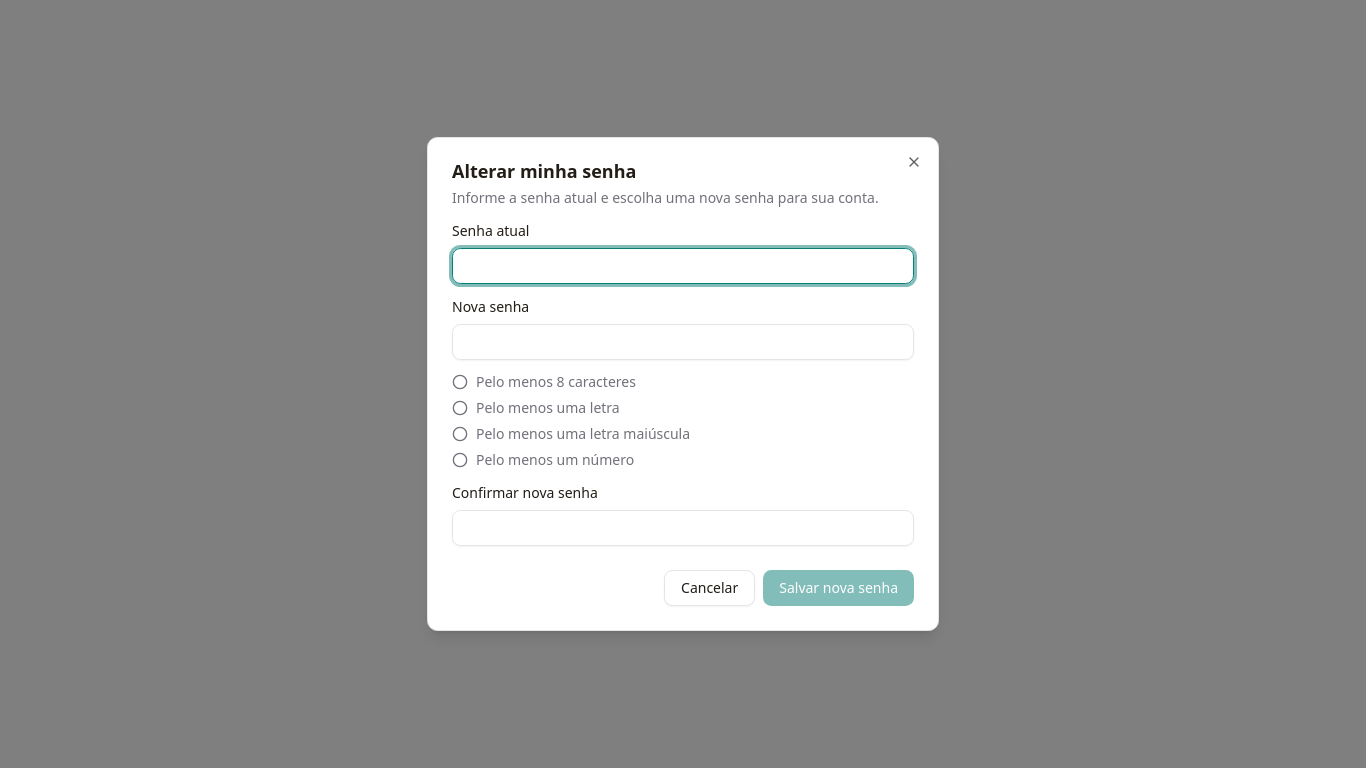
formulário de alteração de senha › limpa os campos ao cancelar
Type "NovaSenha123" into the password field labelled "Nova senha". click: (683, 342)
box: [452, 324, 914, 360]
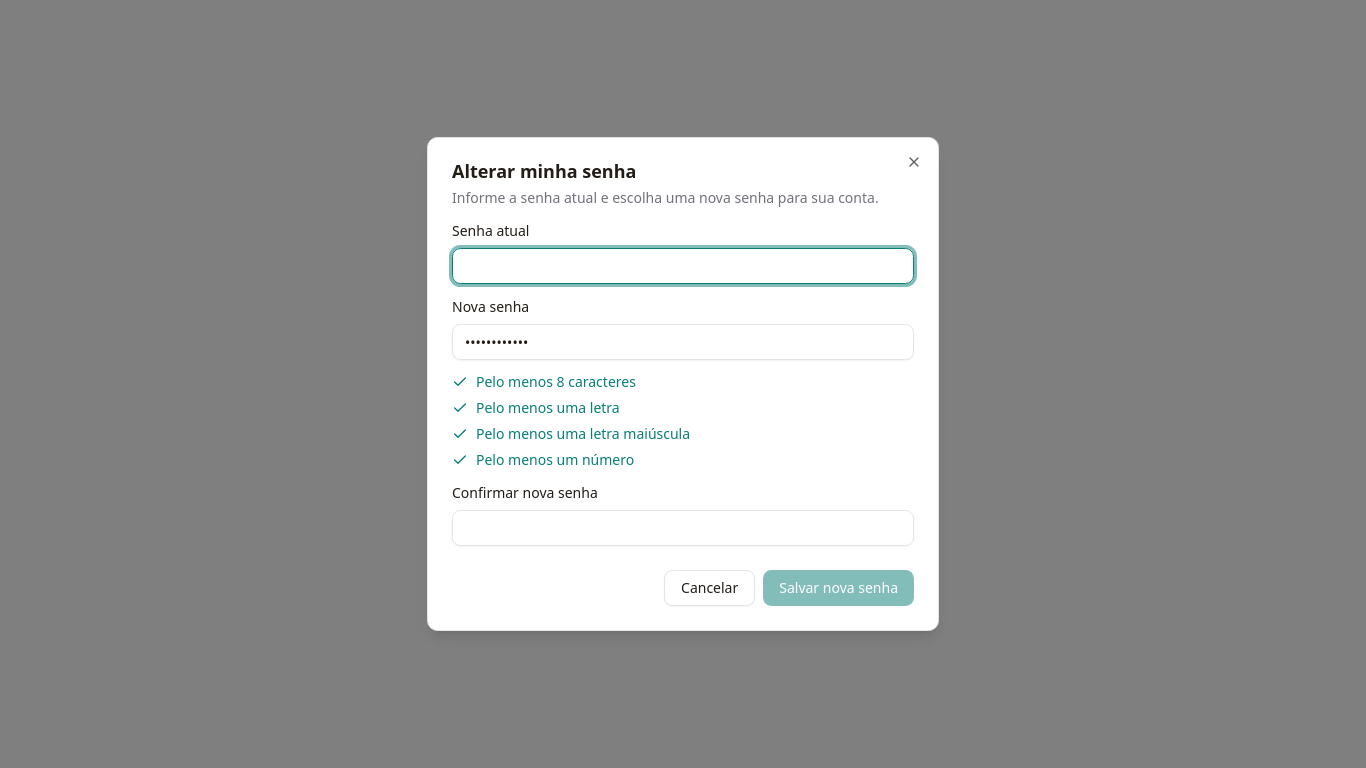
Click the button "Cancelar". click: (710, 588)
box: [664, 570, 755, 606]
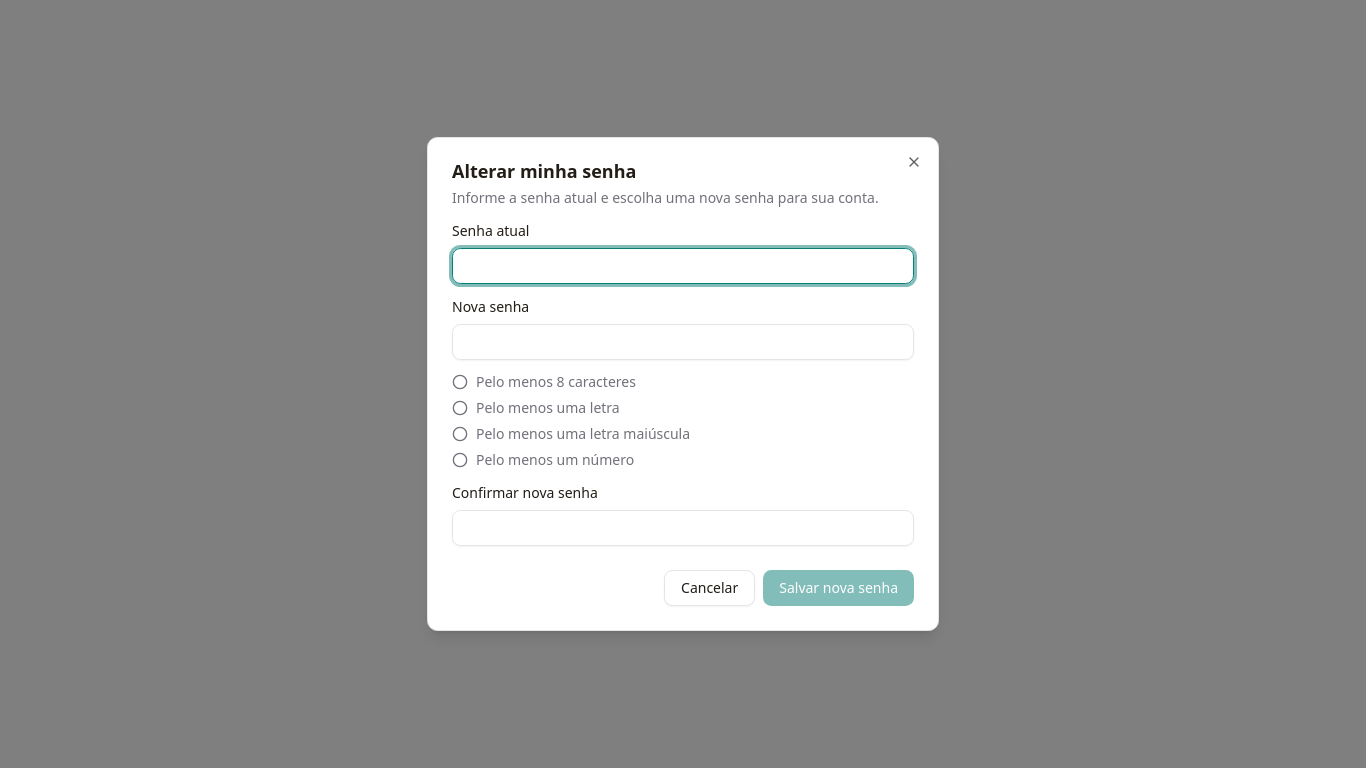
Expected: the password field labelled "Nova senha" is empty, [452, 324, 914, 360]
